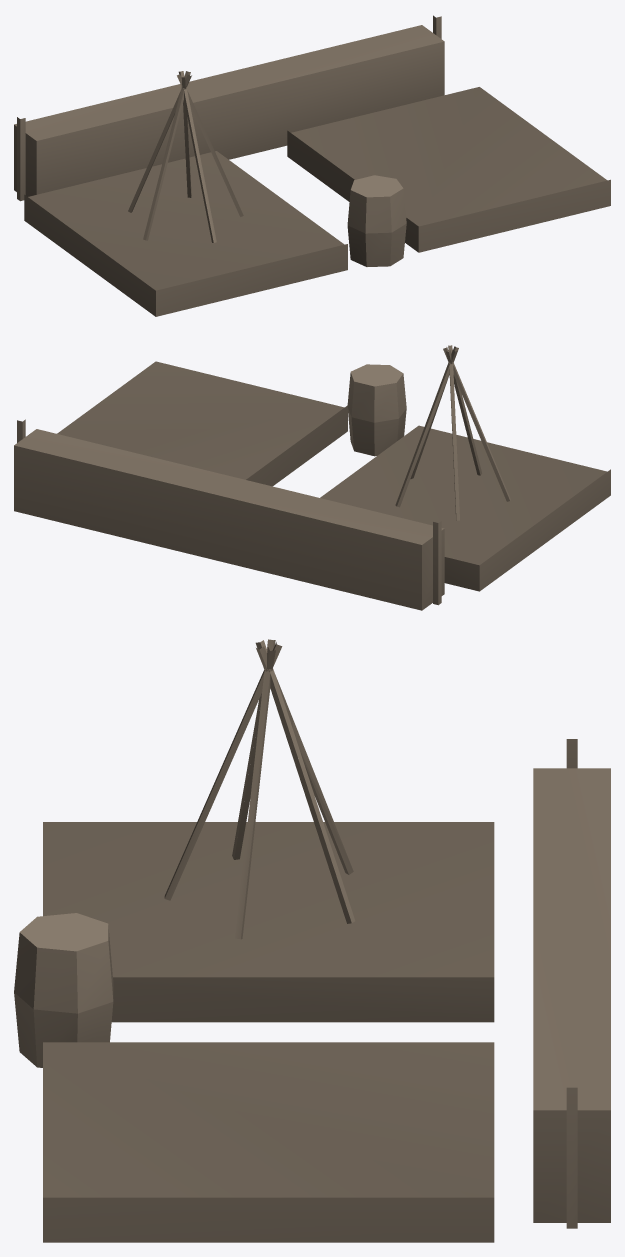
The model's file is sg_yard_dress.glb.
3 views of the same model, one above another, from view 1: azimuth 30°, elevation 25°; view 2: azimuth 150°, elevation 25°; view 3: azimuth 270°, elevation 25° (orthographic). The views are drawn at different scales.
Visible parts, largest first — view 1: sg_yard_dress_SG_Joinery; view 2: sg_yard_dress_SG_Joinery; view 3: sg_yard_dress_SG_Joinery.
Part boxes in pixels (x1,y1,x2,y2): sg_yard_dress_SG_Joinery: [14, 15, 610, 316]; sg_yard_dress_SG_Joinery: [14, 345, 610, 610]; sg_yard_dress_SG_Joinery: [14, 639, 610, 1242].
Bounding box in the file's own units: 5.8 × 2.11 × 3.84.
